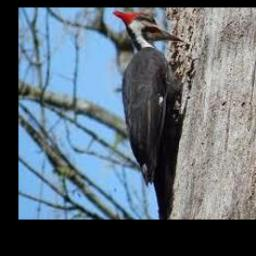Woodpecker: (113, 11, 187, 186)
